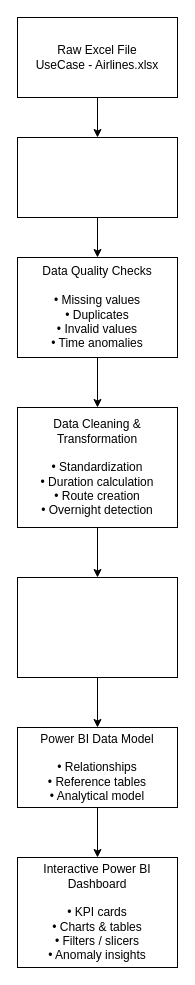
The diagram is 195 pixels wide and 985 high, and some of its shapes have lost their labels. Here are the shapes that lost their labels. From the top down, the centre of each, then its label:
point (97, 177): Python / Pandas Data Ingestion
point (97, 627): Clean Analytical CSVs • Flights • Bookings • Passengers • Payments
